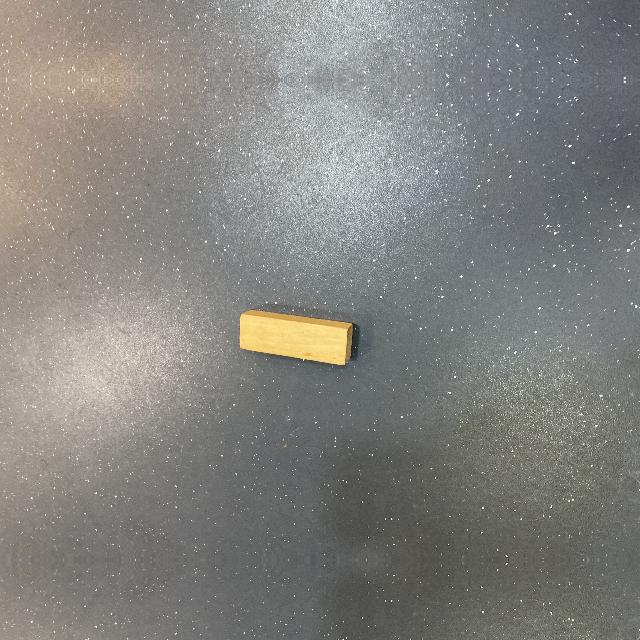jenga: (239, 310, 353, 365)
